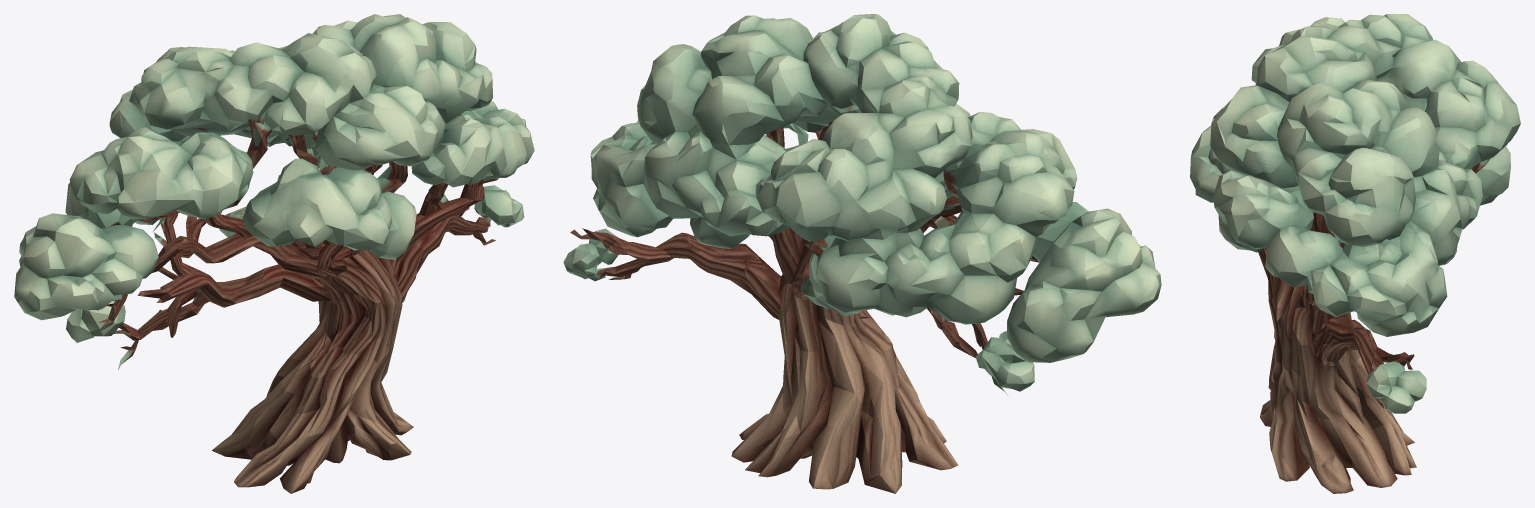
The model's file is swing_tree.glb.
3 renders of one model, left to right at view 1: azimuth 30°, elevation 25°; view 2: azimuth 150°, elevation 25°; view 3: azimuth 270°, elevation 25°, orthographic. The views are drawn at different scales.
Size of the model in its own units: 1.9 by 1.42 by 1.04.
1 material, 1 textured.
